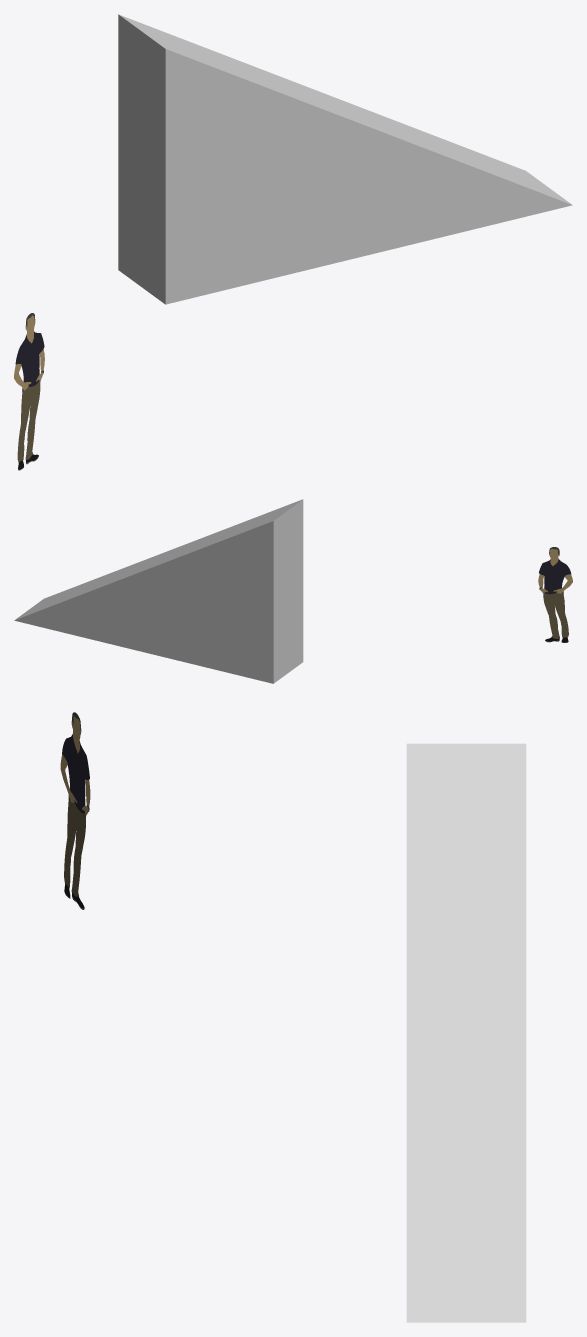
Rendered from stair.dae.
3 views of the same model, one above another, from view 1: azimuth 30°, elevation 25°; view 2: azimuth 150°, elevation 25°; view 3: azimuth 270°, elevation 25° (orthographic). The views are drawn at different scales.
Visible parts, largest first — view 1: SketchUp, Chris (×2); view 2: SketchUp, Chris (×2); view 3: SketchUp, Chris (×2).
Boxes of the visible parts, bbox=[...] form: SketchUp: bbox=[118, 14, 572, 304]; Chris (×2): bbox=[15, 331, 44, 462]; SketchUp: bbox=[14, 499, 303, 683]; Chris (×2): bbox=[539, 558, 571, 638]; SketchUp: bbox=[406, 743, 526, 1322]; Chris (×2): bbox=[62, 734, 89, 896].
Size of the model in its own units: 336 by 153 by 118.
